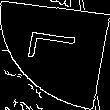L_E: (24, 35, 86, 75)
